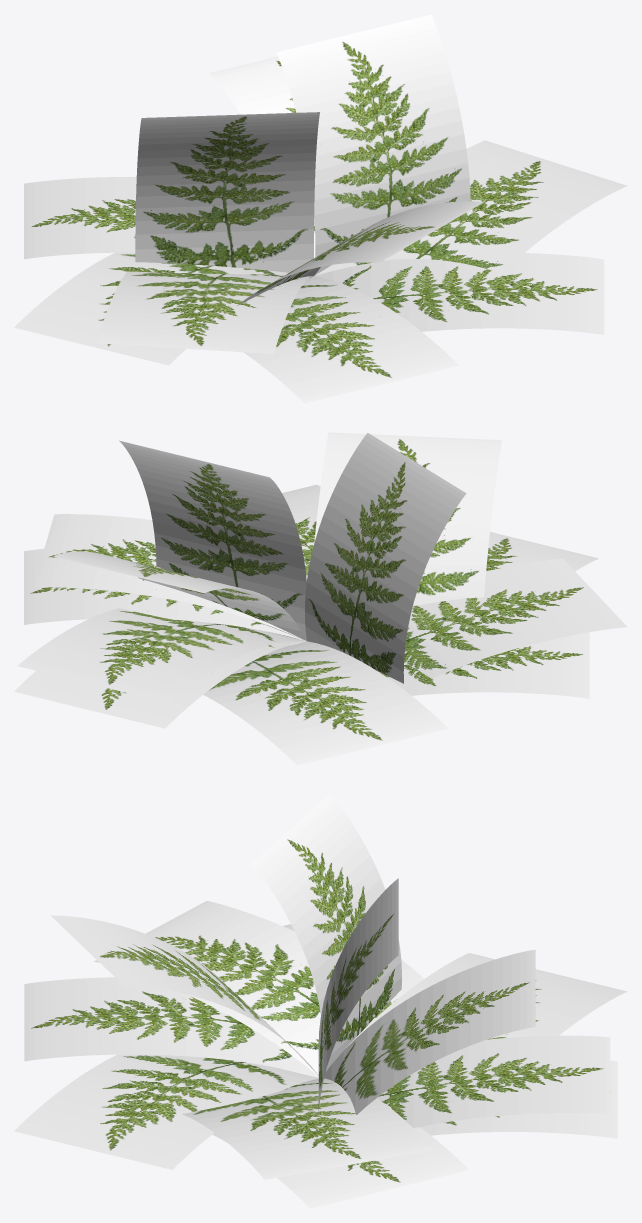
The model's file is fern001.FBX.
3 views of the same model, one above another, from view 1: azimuth 30°, elevation 25°; view 2: azimuth 150°, elevation 25°; view 3: azimuth 270°, elevation 25° (orthographic). The views are drawn at different scales.
Visible parts, largest first — view 1: Group_012, Group_013, Group_005, Group_009, Group_003, Group_001, Group_007, Group_010, Group_006, Group_011; view 2: Group_013, Group_012, Group_007, Group_001, Group_004, Group_006, Group_003, Group_010, Group_008, Group_002, Group_011, Group_009 (+1 smaller); view 3: Group_005, Group_009, Group_004, Group_013, Group_011, Group_003, Group_001, Group_006, Group_012, Group_008, Group_007, Group_002 (+1 smaller).
Part boxes in pixels (x1,y1,x2,y2): Group_012: [276, 14, 470, 275]; Group_013: [135, 112, 319, 272]; Group_005: [315, 253, 604, 334]; Group_009: [244, 276, 458, 403]; Group_003: [315, 140, 627, 275]; Group_001: [96, 271, 312, 353]; Group_007: [24, 177, 136, 259]; Group_010: [14, 252, 288, 365]; Group_006: [237, 201, 483, 305]; Group_011: [209, 56, 315, 258]; Group_013: [304, 433, 466, 683]; Group_012: [119, 440, 306, 640]; Group_007: [203, 641, 447, 765]; Group_001: [404, 558, 627, 678]; Group_004: [17, 608, 305, 702]; Group_006: [314, 432, 502, 606]; Group_003: [33, 514, 305, 640]; Group_010: [377, 632, 589, 698]; Group_008: [24, 548, 305, 640]; Group_002: [14, 641, 305, 728]; Group_011: [53, 551, 306, 640]; Group_009: [486, 532, 598, 571]; Group_005: [14, 1054, 318, 1169]; Group_009: [24, 977, 318, 1077]; Group_004: [377, 1035, 610, 1127]; Group_013: [251, 794, 401, 1071]; Group_011: [324, 949, 535, 1114]; Group_003: [182, 1078, 433, 1179]; Group_001: [94, 901, 320, 1075]; Group_006: [51, 915, 318, 1075]; Group_012: [318, 878, 398, 1115]; Group_008: [212, 1104, 468, 1208]; Group_007: [346, 953, 627, 1047]; Group_002: [420, 1060, 617, 1138].
Size of the model in its own units: 38.39 by 33.81 by 12.17.
1 material, 1 textured.
